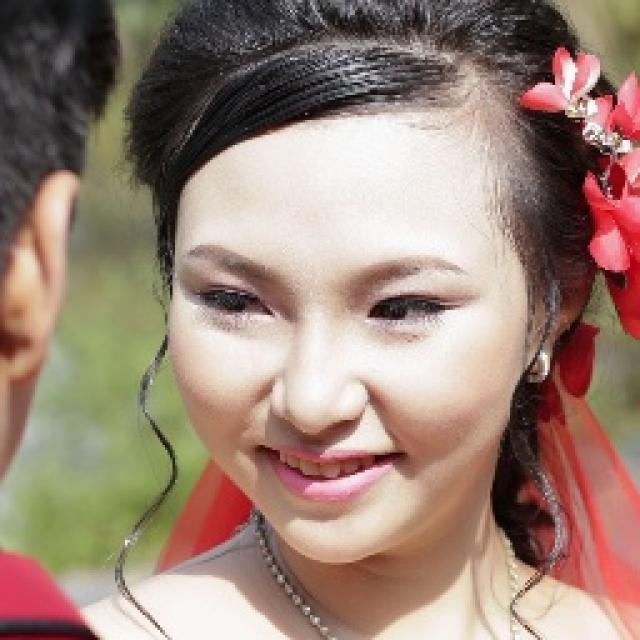earlobe: (6, 173, 78, 387), (524, 222, 603, 387)
